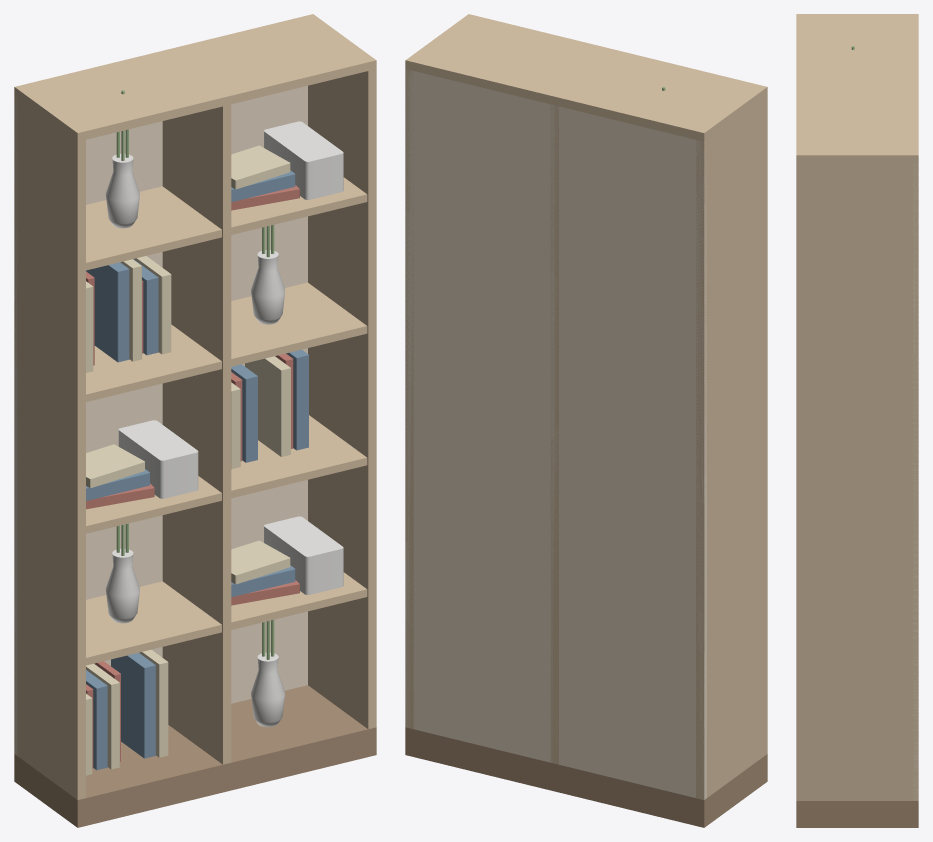
3 renders of one model, left to right at view 1: azimuth 30°, elevation 25°; view 2: azimuth 150°, elevation 25°; view 3: azimuth 270°, elevation 25°, orthographic. The views are drawn at different scales.
Visible parts, largest first — view 1: Kệ sách Dài=900; Sâu=330; view 2: Kệ sách Dài=900; Sâu=330; view 3: Kệ sách Dài=900; Sâu=330.
Boxes of the visible parts, x1,y1,x2,y2 form: Kệ sách Dài=900; Sâu=330: (14, 14, 376, 827); Kệ sách Dài=900; Sâu=330: (405, 14, 767, 827); Kệ sách Dài=900; Sâu=330: (796, 14, 918, 827).
Size of the model in its own units: 0.9 by 2.01 by 0.33.
